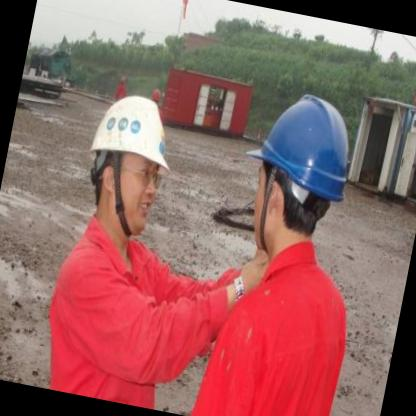helmet: (224, 66, 378, 267), (67, 69, 194, 244)
